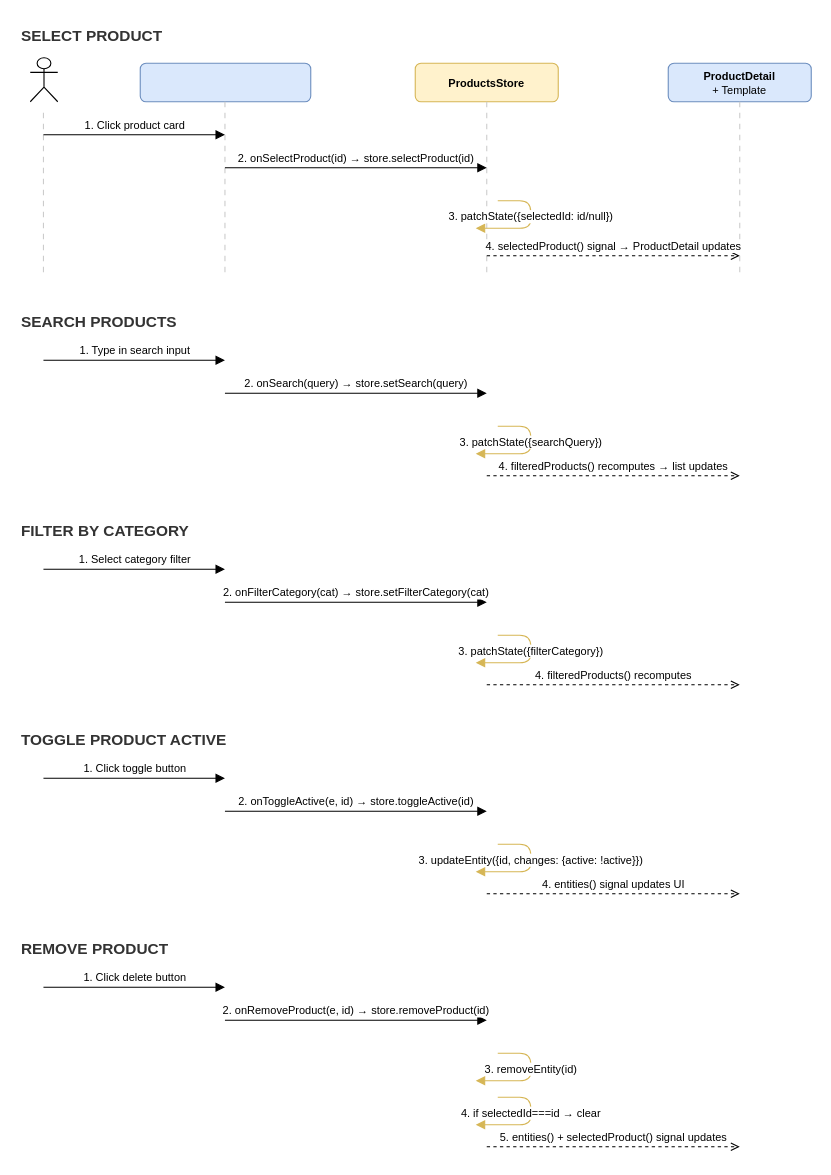
This 831x1175 diagram has some shape labels left out. The shapes that lost their labels are listed below. From the top down, each one's centre as x and y in pixels, then its label:
At (43,79): "User".
At (225,82): "ProductListComponent".
